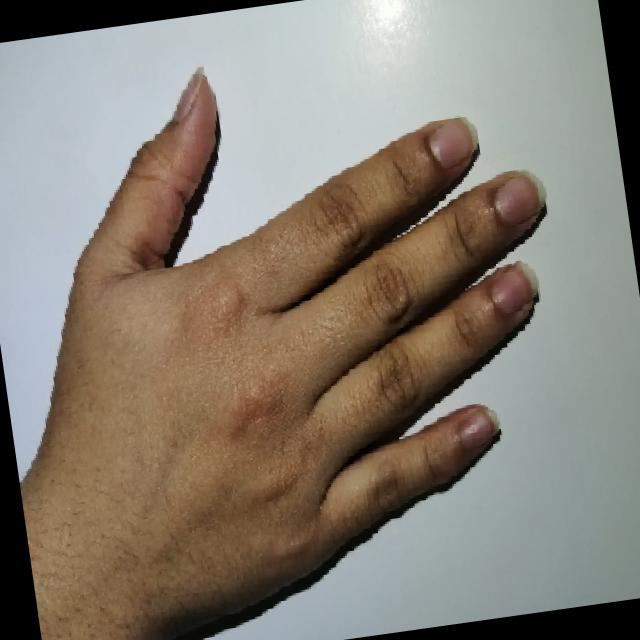Nail: (494, 172, 545, 228), (426, 117, 476, 169), (490, 262, 537, 315), (167, 65, 205, 122), (459, 407, 498, 449)
